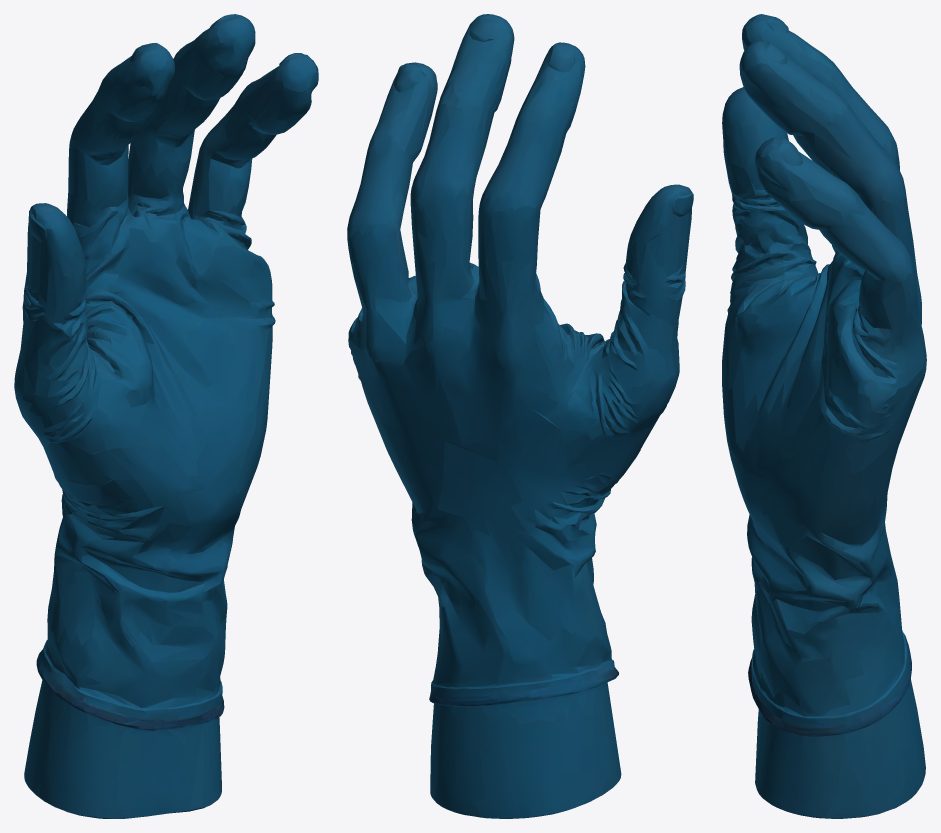
Rendered from hand.glb.
The picture shows the model from 3 angles, left to right: view 1: azimuth 30°, elevation 25°; view 2: azimuth 150°, elevation 25°; view 3: azimuth 270°, elevation 25°; orthographic projection. The views are drawn at different scales.
Size of the model in its own units: 0.7544 by 1.9 by 0.4588.
Materials: 1 (1 with a texture image).
